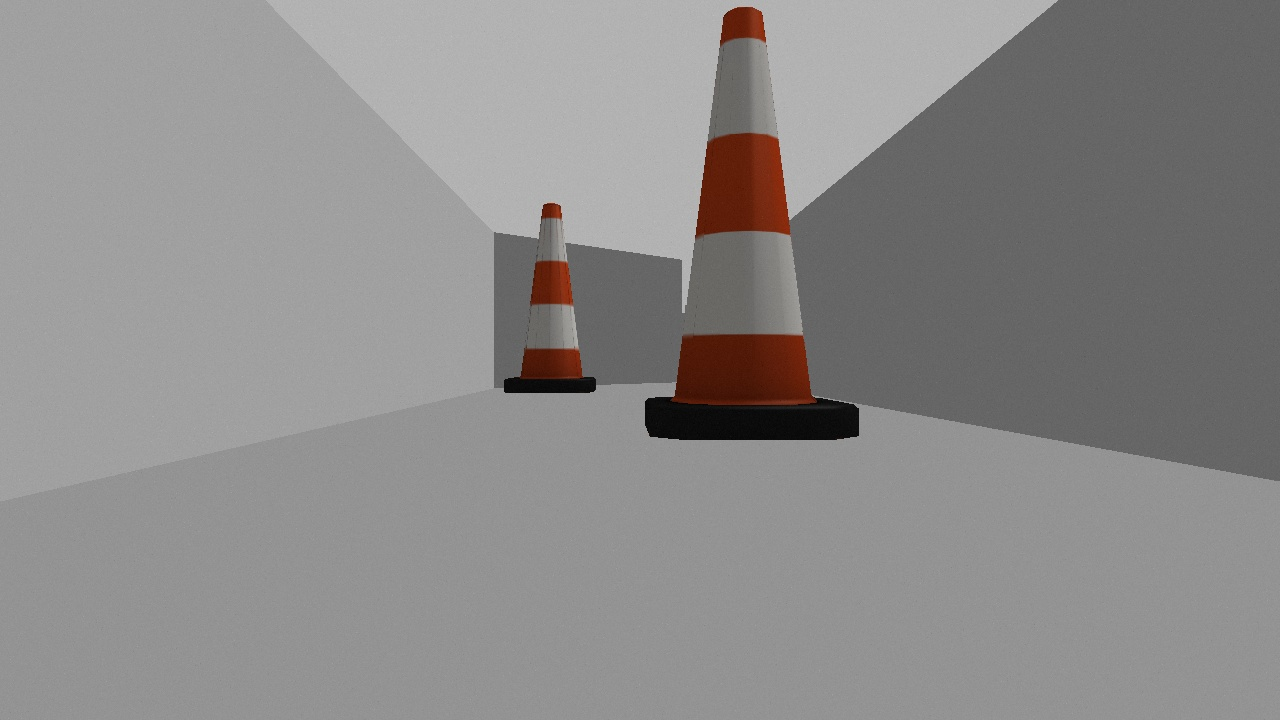barricade: (633, 1, 874, 444), (495, 199, 607, 403)
